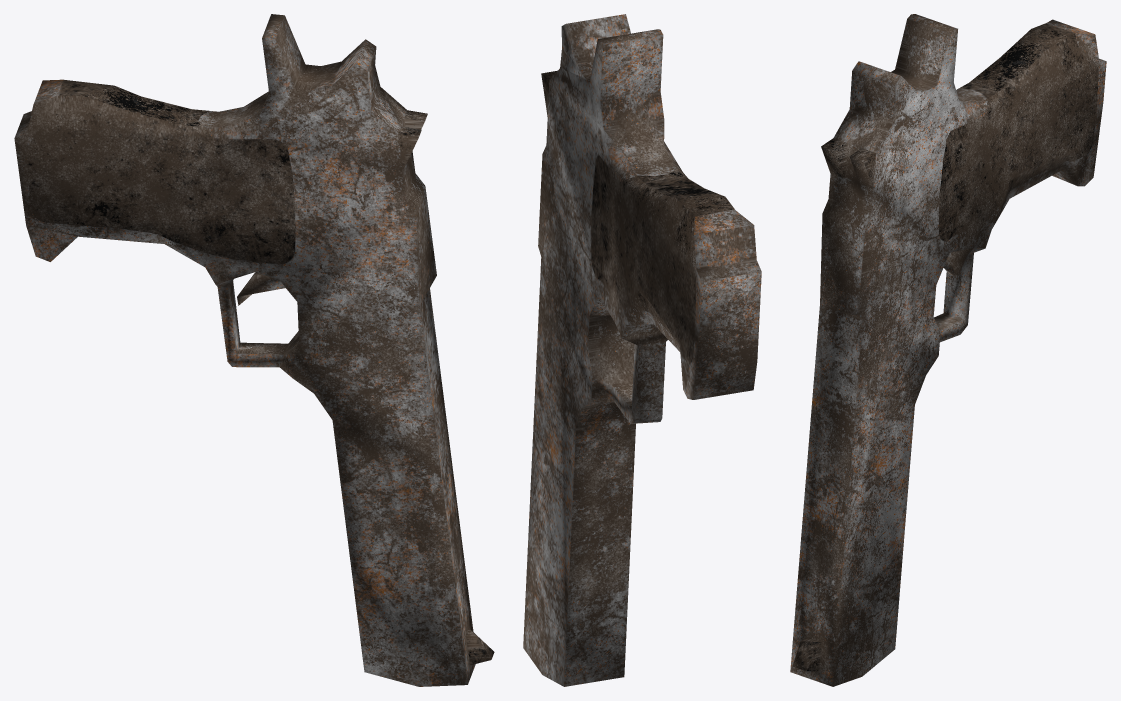
The model's file is Anim_idle_pistola_objetos.0022.obj.
3 renders of one model, left to right at view 1: azimuth 30°, elevation 25°; view 2: azimuth 150°, elevation 25°; view 3: azimuth 270°, elevation 25°, orthographic. The views are drawn at different scales.
Parts seen in each view (by area): view 1: Pistola1; view 2: Pistola1; view 3: Pistola1.
Boxes of the visible parts, <box> form: Pistola1: <box>14,14,494,686</box>; Pistola1: <box>523,14,761,686</box>; Pistola1: <box>790,14,1106,686</box>.
Size of the model in its own units: 0.9419 by 1.68 by 0.7996.
